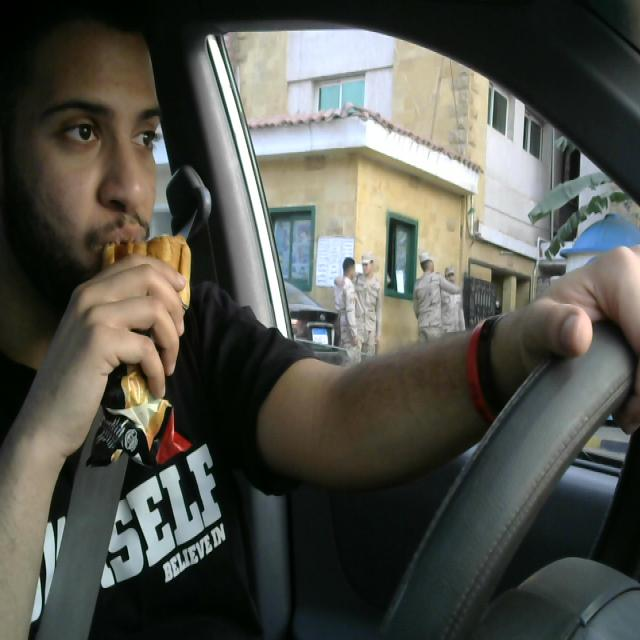eating: (102, 229, 190, 456)
